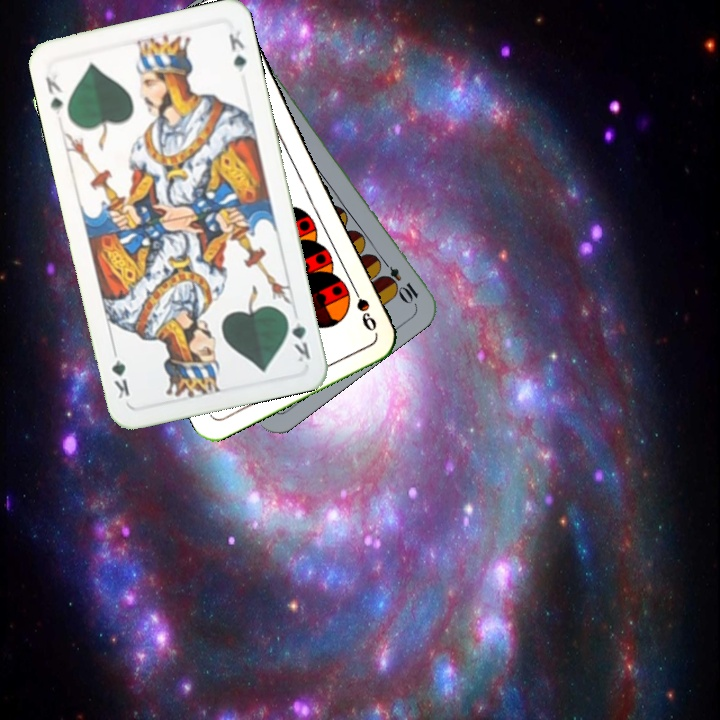E10: (375, 254, 421, 305)
GK: (282, 306, 313, 365), (41, 72, 66, 117)
S9: (346, 279, 380, 334)
